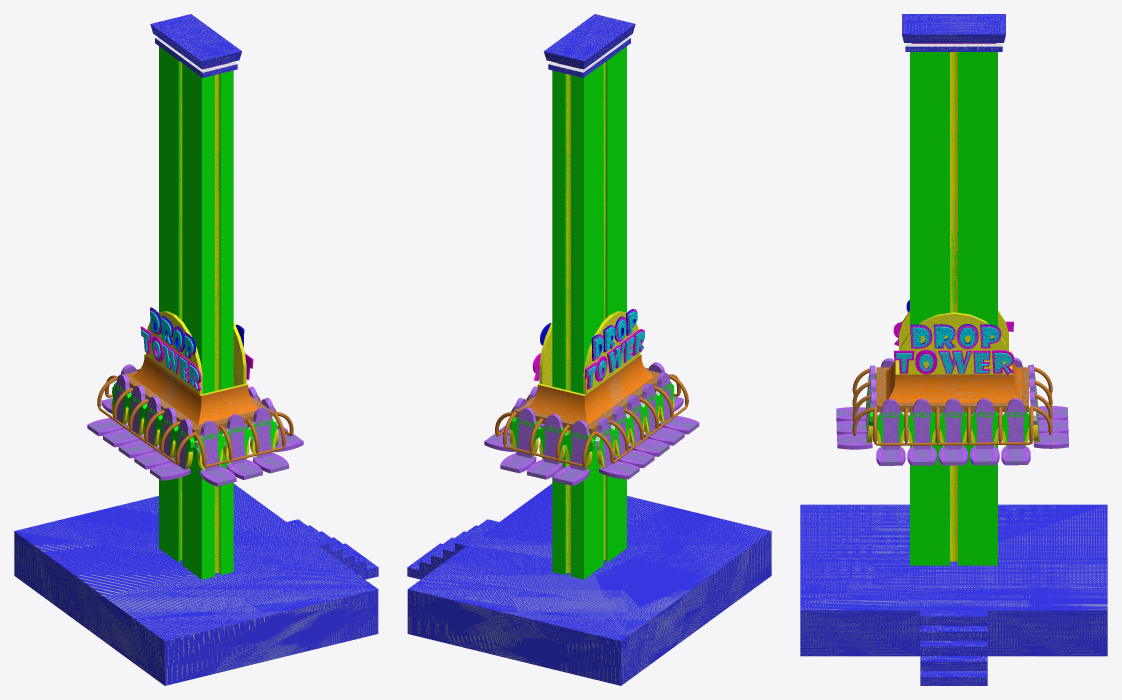
3 views of the same model, side by side, from view 1: azimuth 30°, elevation 25°; view 2: azimuth 150°, elevation 25°; view 3: azimuth 270°, elevation 25° (orthographic). The views are drawn at different scales.
Visible parts, largest first — view 1: group_1, group_2 (×3), group_5 (×3), group_0 (×2), jumprideseat (×3); view 2: group_1, group_2 (×3), group_5 (×3), group_0 (×2), jumprideseat (×3); view 3: group_1, group_2 (×2), group_5 (×3), jumprideseat (×5), group_0 (×3), group_18.
Boxes of the visible parts, x1,y1,x2,y2 form: group_1: (14, 484, 378, 685); group_2 (×3): (159, 46, 233, 579); group_5 (×3): (126, 311, 272, 435); group_0 (×2): (150, 14, 241, 69); jumprideseat (×3): (200, 407, 272, 471); group_1: (407, 484, 771, 685); group_2 (×3): (552, 46, 626, 579); group_5 (×3): (515, 311, 659, 434); group_0 (×2): (544, 14, 635, 69); jumprideseat (×3): (516, 407, 589, 470); group_1: (800, 504, 1107, 685); group_2 (×2): (910, 52, 997, 565); group_5 (×3): (876, 310, 1028, 412); jumprideseat (×5): (881, 398, 1025, 449); group_0 (×3): (902, 14, 1005, 51); group_18: (874, 441, 1032, 445).
Bounding box in the file's own units: 188 × 180 × 375.
